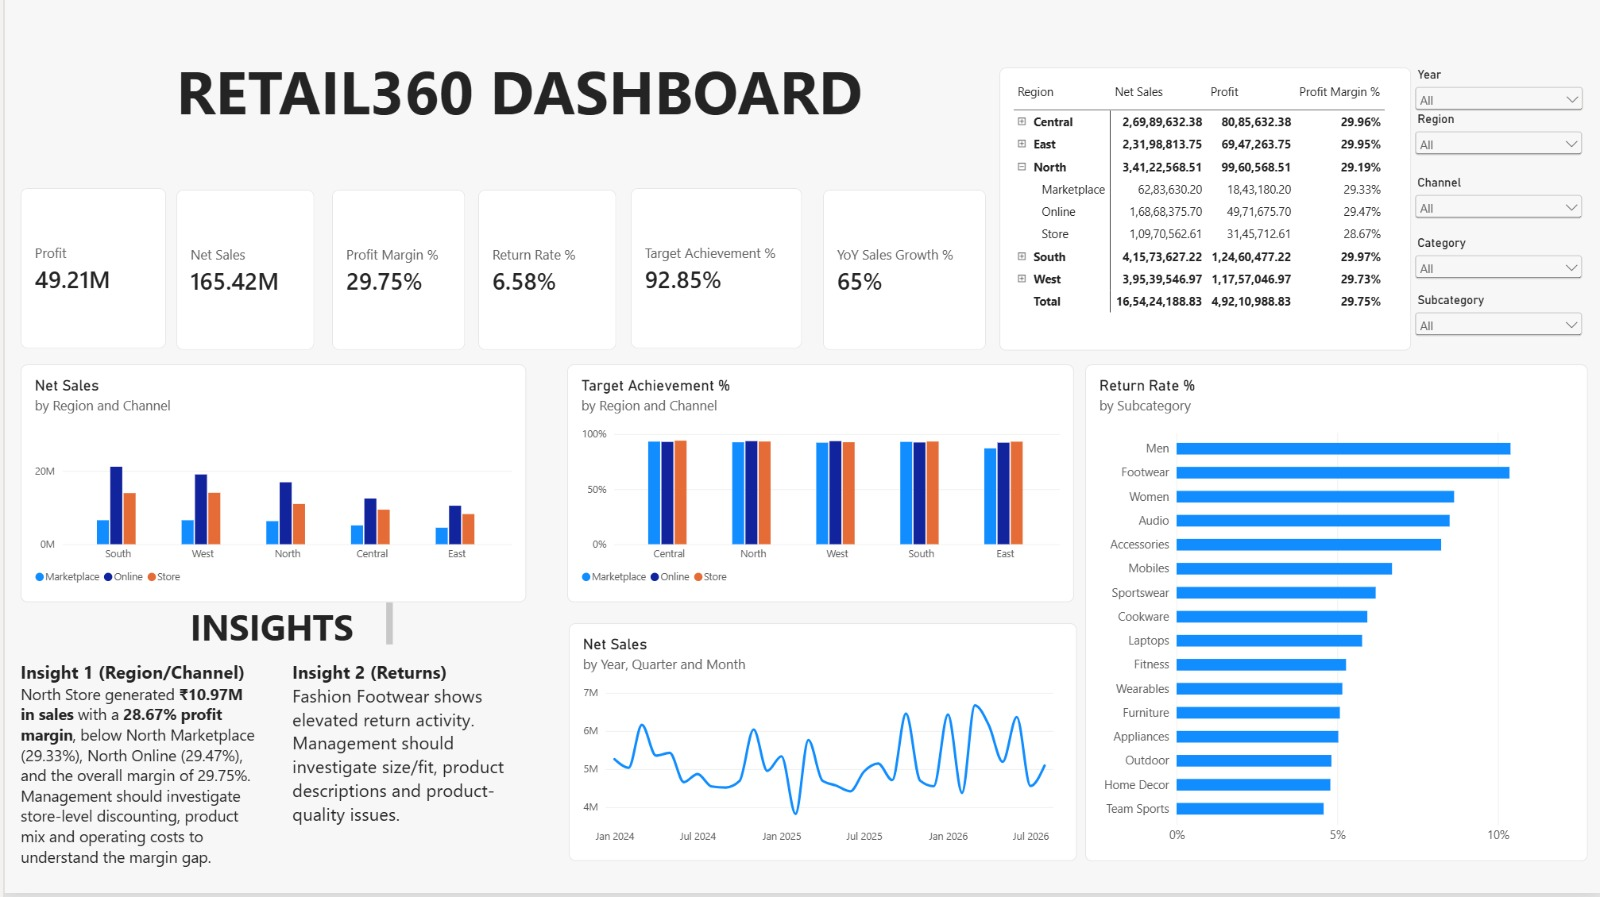

The dashboard page shown, as its layout file describes it:
{"tool":"powerbi","page":{"name":"Page 1","canvas":[1920,1080],"ordinal":0},"visuals":[{"type":"cardVisual","fields":{"Data":["Sales_Fact_Enriched.Net Sales"]},"box":[206.7,233.3,166.7,193.3],"z":0},{"type":"cardVisual","fields":{"Data":["Sales_Fact_Enriched.Profit"]},"box":[20,231.7,175,193.3],"z":1000},{"type":"cardVisual","fields":{"Data":["Sales_Fact_Enriched.Profit Margin %"]},"box":[393.3,233.3,160,193.3],"z":2000},{"type":"cardVisual","fields":{"Data":["Sales_Fact_Enriched.Return Rate %"]},"box":[570,233.3,166.7,193.3],"z":3000},{"type":"cardVisual","fields":{"Data":["Sales_Fact_Enriched.Target Achievement %"]},"box":[753.3,231.7,206.7,193.3],"z":4000},{"type":"cardVisual","fields":{"Data":["Sales_Fact_Enriched.YoY Sales Growth %"]},"box":[985,233.3,196.7,193.3],"z":5000},{"type":"lineChart","fields":{"Category":["Date.YearMonth.Variation.Date Hierarchy.Year","Date.YearMonth.Variation.Date Hierarchy.Quarter","Date.YearMonth.Variation.Date Hierarchy.Month","Date.YearMonth.Variation.Date Hierarchy.Day"],"Y":["Sales_Fact_Enriched.Net Sales"]},"box":[678.3,755,611.7,286.7],"z":6000},{"type":"clusteredColumnChart","fields":{"Category":["Customers.Region"],"Series":["Sales_Fact_Enriched.Channel"],"Y":["Sales_Fact_Enriched.Net Sales"]},"box":[20,443.3,608.3,286.7],"z":7000},{"type":"barChart","fields":{"Category":["Products.Subcategory"],"Y":["Sales_Fact_Enriched.Return Rate %"]},"box":[1300,443.3,605,598.3],"z":7001},{"type":"clusteredColumnChart","fields":{"Category":["Customers.Region"],"Series":["Sales_Fact_Enriched.Channel"],"Y":["Sales_Fact_Enriched.Target Achievement %"]},"box":[676.7,443.3,610,286.7],"z":7002},{"type":"textbox","box":[20,800,283.3,280],"z":7003},{"type":"textbox","box":[345.6,800,283.3,280],"z":7004},{"type":"textbox","box":[183.3,730,283.3,53.3],"z":7005},{"type":"slicer","fields":{"Values":["Date.Year"]},"box":[1693.3,85.6,212.2,68.9],"z":7006},{"type":"slicer","fields":{"Values":["Customers.Region"]},"box":[1693.3,140,211.1,68.9],"z":7007},{"type":"slicer","fields":{"Values":["Sales_Fact_Enriched.Channel"]},"box":[1693.3,215.6,211.1,66.7],"z":7008},{"type":"slicer","fields":{"Values":["Products.Category"]},"box":[1693.3,288.9,211.1,67.8],"z":7009},{"type":"slicer","fields":{"Values":["Products.Subcategory"]},"box":[1693.3,356.7,211.1,68.9],"z":7010},{"type":"textbox","box":[206.7,65,941.7,150],"z":7011},{"type":"pivotTable","fields":{"Rows":["Customers.Region","Sales_Fact_Enriched.Channel"],"Values":["Sales_Fact_Enriched.Net Sales","Sales_Fact_Enriched.Profit","Sales_Fact_Enriched.Profit Margin %"]},"box":[1197.8,85.6,495.6,341.1],"z":7012}]}

Visuals, with their boxes in screenshot pixels (x1, y1, x2, y2), scaled from the page's 1920x1080 canvas onto the 1600x897 screenshot:
cardVisual - Sales_Fact_Enriched.Net Sales: region(172, 194, 311, 354)
cardVisual - Sales_Fact_Enriched.Profit: region(17, 192, 162, 353)
cardVisual - Sales_Fact_Enriched.Profit Margin %: region(328, 194, 461, 354)
cardVisual - Sales_Fact_Enriched.Return Rate %: region(475, 194, 614, 354)
cardVisual - Sales_Fact_Enriched.Target Achievement %: region(628, 192, 800, 353)
cardVisual - Sales_Fact_Enriched.YoY Sales Growth %: region(821, 194, 985, 354)
lineChart - Date.YearMonth.Variation.Date Hierarchy.Year x Date.YearMonth.Variation.Date Hierarchy.Quarter: region(565, 627, 1075, 865)
clusteredColumnChart - Customers.Region x Sales_Fact_Enriched.Channel: region(17, 368, 524, 606)
barChart - Products.Subcategory x Sales_Fact_Enriched.Return Rate %: region(1083, 368, 1588, 865)
clusteredColumnChart - Customers.Region x Sales_Fact_Enriched.Channel: region(564, 368, 1072, 606)
textbox: region(17, 664, 253, 896)
textbox: region(288, 664, 524, 896)
textbox: region(153, 606, 389, 651)
slicer - Date.Year: region(1411, 71, 1588, 128)
slicer - Customers.Region: region(1411, 116, 1587, 174)
slicer - Sales_Fact_Enriched.Channel: region(1411, 179, 1587, 234)
slicer - Products.Category: region(1411, 240, 1587, 296)
slicer - Products.Subcategory: region(1411, 296, 1587, 353)
textbox: region(172, 54, 957, 179)
pivotTable - Customers.Region x Sales_Fact_Enriched.Channel: region(998, 71, 1411, 354)
